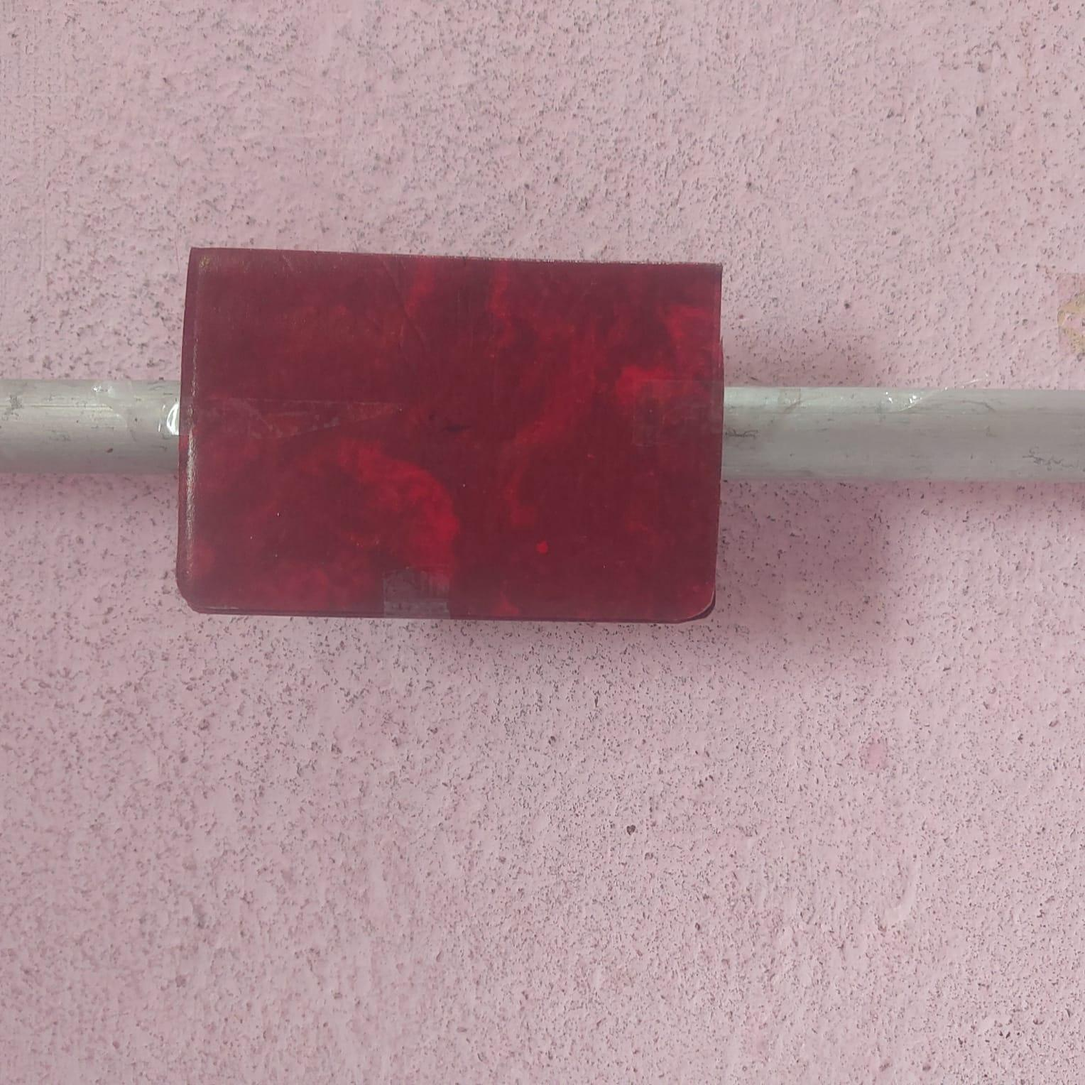wallet: (178, 232, 731, 621)
